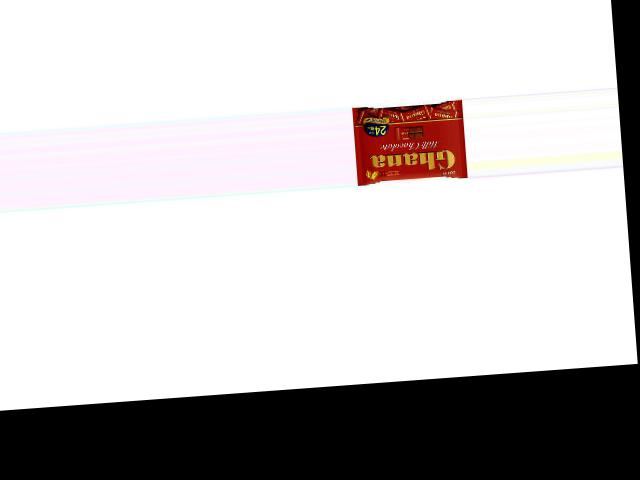chocolate: (350, 97, 465, 184)
